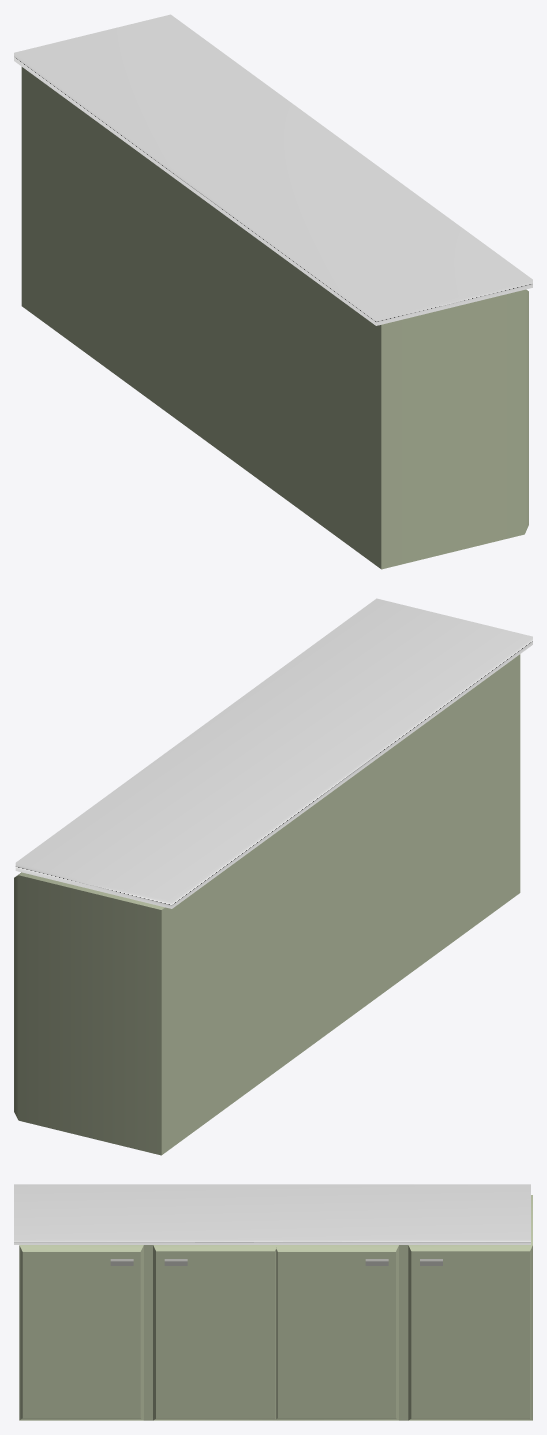
Rendered from DoucleCabinet.fbx.
The picture shows the model from 3 angles, top to bottom: view 1: azimuth 30°, elevation 25°; view 2: azimuth 150°, elevation 25°; view 3: azimuth 270°, elevation 25°; orthographic projection. The views are drawn at different scales.
Visible parts, largest first — view 1: Cube.003, Woodboard for Cab3, Cube.002; view 2: Cube.002, Woodboard for Cab3, Cube.003; view 3: Cube.003, Cube.002, Woodboard for Cab3.
Boxes of the visible parts, box(x1,y1,x2,y2) form: Cube.003: box(202, 199, 528, 569); Woodboard for Cab3: box(14, 14, 532, 325); Cube.002: box(21, 67, 202, 438); Cube.002: box(14, 785, 341, 1155); Woodboard for Cab3: box(15, 598, 532, 908); Cube.003: box(342, 654, 520, 1022); Cube.003: box(19, 1245, 277, 1420); Cube.002: box(276, 1195, 532, 1420); Woodboard for Cab3: box(14, 1184, 530, 1244).
Size of the model in its own units: 63.44 by 93.8 by 241.
